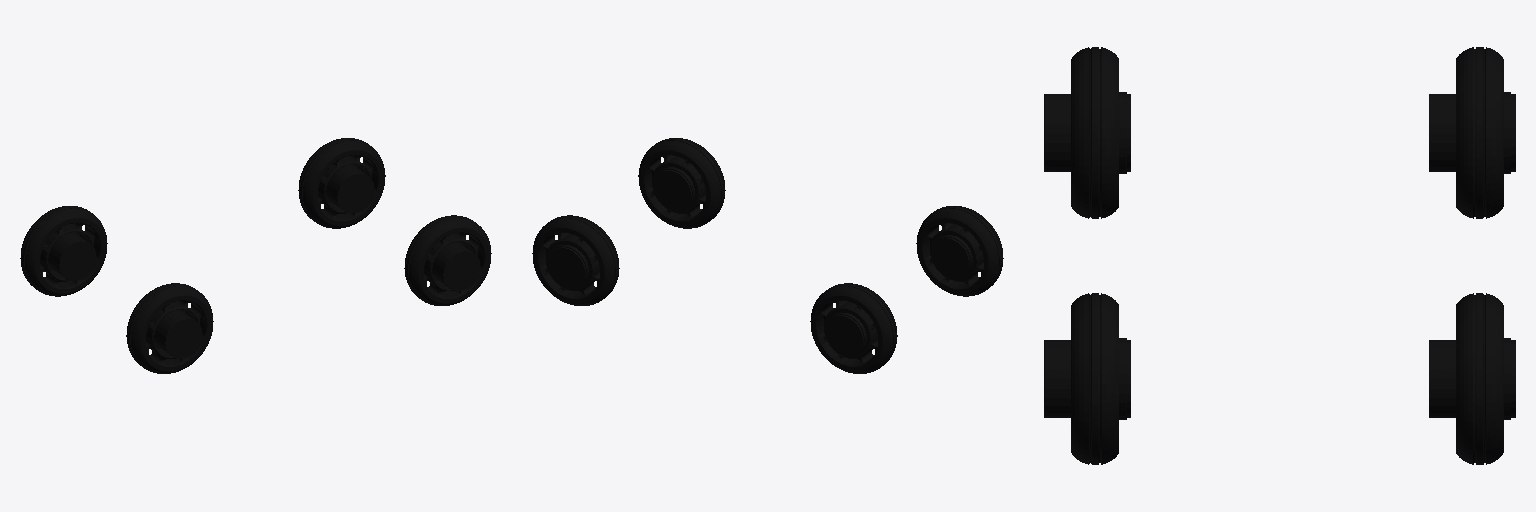
URDF robot description (maver_x4):
<?xml version="1.0" encoding="utf-8"?>
<robot name="maver_x4">
    <link name="base_link">
        <inertial>
            <origin xyz="-0.00051929 0.022743 0.12782" rpy="0 0 0" />
            <mass value="3.464" />
            <inertia ixx="0.6655" ixy="-0.00054813" ixz="-0.0016176"
                    iyy="0.46727" iyz="-0.0021138" izz="1.1037" />
        </inertial>
        <visual>
            <origin xyz="0 0 0" rpy="0 0 0" />
            <geometry>
                <mesh filename="package://hex_toolkit_maver_x4/urdf/meshes/base_link.STL" />
            </geometry>
            <material name="">
                <color rgba="0.75 0.75 0.75 1" />
            </material>
        </visual>
        <collision>
            <origin xyz="0 0 0" rpy="0 0 0" />
            <geometry>
                <mesh filename="package://hex_toolkit_maver_x4/urdf/meshes/base_link.STL" />
            </geometry>
        </collision>
    </link>

    <link name="link_yaw1">
        <inertial>
        <origin xyz="-0.010257 -0.0011369 -0.064839" rpy="0 0 0" />
        <mass value="0.8259" />
        <inertia ixx="0.00060151" ixy="1.2904E-05" ixz="-9.0688E-05"
                iyy="0.00078014" iyz="1.4436E-05" izz="0.0006025" />
        </inertial>
        <visual>
            <origin xyz="0 0 0" rpy="0 0 0" />
            <geometry>
                <mesh filename="package://hex_toolkit_maver_x4/urdf/meshes/link_yaw.STL" />
            </geometry>
            <material name="">
                <color rgba="0.647058823529412 0.619607843137255 0.588235294117647 1" />
            </material>
        </visual>
        <collision>
            <origin xyz="0 0 0" rpy="0 0 0" />
            <geometry>
                <mesh filename="package://hex_toolkit_maver_x4/urdf/meshes/link_yaw.STL" />
            </geometry>
        </collision>
    </link>
    <joint name="joint_yaw1" type="fixed">
        <origin xyz="0.212 0.14 0.1625" rpy="0 0 0" />
        <parent link="base_link" />
        <child link="link_yaw1" />
        <axis xyz="0 0 1" />
        <limit lower="0.1" upper="100" effort="1" velocity="1" />
    </joint>
    <link name="link_wheel1">
        <inertial>
            <origin xyz="5.0479E-07 0.0023009 -8.7519E-07" rpy="0 0 0" />
            <mass value="0.36495" />
            <inertia ixx="0.00041642" ixy="-1.4943E-09" ixz="-2.1546E-09"
                    iyy="0.00075667" iyz="2.5907E-09" izz="0.00041642" />
        </inertial>
        <visual>
            <origin xyz="0 0 0" rpy="0 0 0" />
            <geometry>
                <mesh filename="package://hex_toolkit_maver_x4/urdf/meshes/link_wheel.STL" />
            </geometry>
            <material name="">
                <color rgba="0.1 0.1 0.1 1" />
            </material>
        </visual>
        <collision>
            <origin xyz="0 0 0" rpy="0 0 0" />
            <geometry>
                <mesh filename="package://hex_toolkit_maver_x4/urdf/meshes/link_wheel.STL" />
            </geometry>
        </collision>
    </link>
    <joint name="joint_wheel1" type="fixed">
        <origin xyz="-0.02 0 -0.1" rpy="0 0 0" />
        <parent link="link_yaw1" />
        <child link="link_wheel1" />
        <axis xyz="0 1 0" />
        <limit lower="0.1" upper="100" effort="1" velocity="1" />
    </joint>

    <link name="link_yaw2">
        <inertial>
        <origin xyz="-0.010257 -0.0011369 -0.064839" rpy="0 0 0" />
        <mass value="0.8259" />
        <inertia ixx="0.00060151" ixy="1.2904E-05" ixz="-9.0688E-05"
                iyy="0.00078014" iyz="1.4436E-05" izz="0.0006025" />
        </inertial>
        <visual>
            <origin xyz="0 0 0" rpy="0 0 0" />
            <geometry>
                <mesh filename="package://hex_toolkit_maver_x4/urdf/meshes/link_yaw.STL" />
            </geometry>
            <material name="">
                <color rgba="0.647058823529412 0.619607843137255 0.588235294117647 1" />
            </material>
        </visual>
        <collision>
            <origin xyz="0 0 0" rpy="0 0 0" />
            <geometry>
                <mesh filename="package://hex_toolkit_maver_x4/urdf/meshes/link_yaw.STL" />
            </geometry>
        </collision>
    </link>
    <joint name="joint_yaw2" type="fixed">
        <origin xyz="-0.212 0.14 0.1625" rpy="0 0 0" />
        <parent link="base_link" />
        <child link="link_yaw2" />
        <axis xyz="0 0 1" />
        <limit lower="0.1" upper="100" effort="1" velocity="1" />
    </joint>
    <link name="link_wheel2">
        <inertial>
            <origin xyz="5.0479E-07 0.0023009 -8.7519E-07" rpy="0 0 0" />
            <mass value="0.36495" />
            <inertia ixx="0.00041642" ixy="-1.4943E-09" ixz="-2.1546E-09"
                    iyy="0.00075667" iyz="2.5907E-09" izz="0.00041642" />
        </inertial>
        <visual>
            <origin xyz="0 0 0" rpy="0 0 0" />
            <geometry>
                <mesh filename="package://hex_toolkit_maver_x4/urdf/meshes/link_wheel.STL" />
            </geometry>
            <material name="">
                <color rgba="0.1 0.1 0.1 1" />
            </material>
        </visual>
        <collision>
            <origin xyz="0 0 0" rpy="0 0 0" />
            <geometry>
                <mesh filename="package://hex_toolkit_maver_x4/urdf/meshes/link_wheel.STL" />
            </geometry>
        </collision>
    </link>
    <joint name="joint_wheel2" type="fixed">
        <origin xyz="-0.02 0 -0.1" rpy="0 0 0" />
        <parent link="link_yaw2" />
        <child link="link_wheel2" />
        <axis xyz="0 1 0" />
        <limit lower="0.1" upper="100" effort="1" velocity="1" />
    </joint>

    <link name="link_yaw3">
        <inertial>
        <origin xyz="-0.010257 -0.0011369 -0.064839" rpy="0 0 0" />
        <mass value="0.8259" />
        <inertia ixx="0.00060151" ixy="1.2904E-05" ixz="-9.0688E-05"
                iyy="0.00078014" iyz="1.4436E-05" izz="0.0006025" />
        </inertial>
        <visual>
            <origin xyz="0 0 0" rpy="0 0 0" />
            <geometry>
                <mesh filename="package://hex_toolkit_maver_x4/urdf/meshes/link_yaw.STL" />
            </geometry>
            <material name="">
                <color rgba="0.647058823529412 0.619607843137255 0.588235294117647 1" />
            </material>
        </visual>
        <collision>
            <origin xyz="0 0 0" rpy="0 0 0" />
            <geometry>
                <mesh filename="package://hex_toolkit_maver_x4/urdf/meshes/link_yaw.STL" />
            </geometry>
        </collision>
    </link>
    <joint name="joint_yaw3" type="fixed">
        <origin xyz="-0.212 -0.14 0.1625" rpy="0 0 0" />
        <parent link="base_link" />
        <child link="link_yaw3" />
        <axis xyz="0 0 1" />
        <limit lower="0.1" upper="100" effort="1" velocity="1" />
    </joint>
    <link name="link_wheel3">
        <inertial>
            <origin xyz="5.0479E-07 0.0023009 -8.7519E-07" rpy="0 0 0" />
            <mass value="0.36495" />
            <inertia ixx="0.00041642" ixy="-1.4943E-09" ixz="-2.1546E-09"
                    iyy="0.00075667" iyz="2.5907E-09" izz="0.00041642" />
        </inertial>
        <visual>
            <origin xyz="0 0 0" rpy="0 0 0" />
            <geometry>
                <mesh filename="package://hex_toolkit_maver_x4/urdf/meshes/link_wheel.STL" />
            </geometry>
            <material name="">
                <color rgba="0.1 0.1 0.1 1" />
            </material>
        </visual>
        <collision>
            <origin xyz="0 0 0" rpy="0 0 0" />
            <geometry>
                <mesh filename="package://hex_toolkit_maver_x4/urdf/meshes/link_wheel.STL" />
            </geometry>
        </collision>
    </link>
    <joint name="joint_wheel3" type="fixed">
        <origin xyz="-0.02 0 -0.1" rpy="0 0 0" />
        <parent link="link_yaw3" />
        <child link="link_wheel3" />
        <axis xyz="0 1 0" />
        <limit lower="0.1" upper="100" effort="1" velocity="1" />
    </joint>

    <link name="link_yaw4">
        <inertial>
        <origin xyz="-0.010257 -0.0011369 -0.064839" rpy="0 0 0" />
        <mass value="0.8259" />
        <inertia ixx="0.00060151" ixy="1.2904E-05" ixz="-9.0688E-05"
                iyy="0.00078014" iyz="1.4436E-05" izz="0.0006025" />
        </inertial>
        <visual>
            <origin xyz="0 0 0" rpy="0 0 0" />
            <geometry>
                <mesh filename="package://hex_toolkit_maver_x4/urdf/meshes/link_yaw.STL" />
            </geometry>
            <material name="">
                <color rgba="0.647058823529412 0.619607843137255 0.588235294117647 1" />
            </material>
        </visual>
        <collision>
            <origin xyz="0 0 0" rpy="0 0 0" />
            <geometry>
                <mesh filename="package://hex_toolkit_maver_x4/urdf/meshes/link_yaw.STL" />
            </geometry>
        </collision>
    </link>
    <joint name="joint_yaw4" type="fixed">
        <origin xyz="0.212 -0.14 0.1625" rpy="0 0 0" />
        <parent link="base_link" />
        <child link="link_yaw4" />
        <axis xyz="0 0 1" />
        <limit lower="0.1" upper="100" effort="1" velocity="1" />
    </joint>
    <link name="link_wheel4">
        <inertial>
            <origin xyz="5.0479E-07 0.0023009 -8.7519E-07" rpy="0 0 0" />
            <mass value="0.36495" />
            <inertia ixx="0.00041642" ixy="-1.4943E-09" ixz="-2.1546E-09"
                    iyy="0.00075667" iyz="2.5907E-09" izz="0.00041642" />
        </inertial>
        <visual>
            <origin xyz="0 0 0" rpy="0 0 0" />
            <geometry>
                <mesh filename="package://hex_toolkit_maver_x4/urdf/meshes/link_wheel.STL" />
            </geometry>
            <material name="">
                <color rgba="0.1 0.1 0.1 1" />
            </material>
        </visual>
        <collision>
            <origin xyz="0 0 0" rpy="0 0 0" />
            <geometry>
                <mesh filename="package://hex_toolkit_maver_x4/urdf/meshes/link_wheel.STL" />
            </geometry>
        </collision>
    </link>
    <joint name="joint_wheel4" type="fixed">
        <origin xyz="-0.02 0 -0.1" rpy="0 0 0" />
        <parent link="link_yaw4" />
        <child link="link_wheel4" />
        <axis xyz="0 1 0" />
        <limit lower="0.1" upper="100" effort="1" velocity="1" />
    </joint>

</robot>

--- Render facts (derived) ---
3 views of the same robot in one strip: view 1: azimuth 30°, elevation 25°; view 2: azimuth 150°, elevation 25°; view 3: azimuth 270°, elevation 25° (orthographic).
Robot: maver_x4 — 9 links, 8 joints (8 fixed); root link base_link; default pose: all joints at 0.
Links seen in each view (by area): view 1: link_wheel1, link_wheel3, link_wheel2, link_wheel4; view 2: link_wheel2, link_wheel4, link_wheel1, link_wheel3; view 3: link_wheel3, link_wheel4, link_wheel1, link_wheel2.
Boxes of the visible links, x1,y1,x2,y2 form: link_wheel1: (298, 138, 385, 228); link_wheel3: (126, 283, 213, 373); link_wheel2: (20, 206, 107, 296); link_wheel4: (404, 215, 491, 305); link_wheel2: (810, 283, 897, 373); link_wheel4: (638, 138, 725, 228); link_wheel1: (532, 215, 619, 305); link_wheel3: (916, 206, 1003, 296); link_wheel3: (1044, 47, 1130, 218); link_wheel4: (1044, 293, 1130, 464); link_wheel1: (1429, 293, 1515, 464); link_wheel2: (1429, 47, 1515, 218).
Bounding box of the posed robot: 0.5489 × 0.343 × 0.1249 m (x, y, z).
4 mesh visuals loaded from 3 distinct referenced files (1 binary STL); not drawn: 5 (reference not matched to a file when rendering).